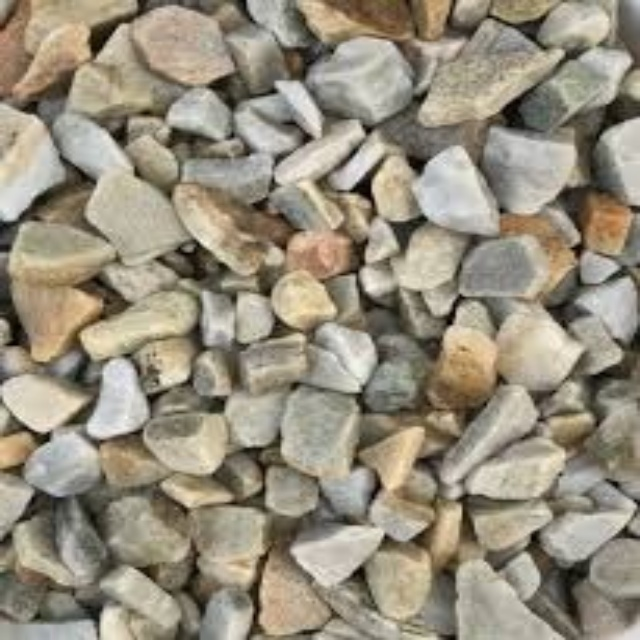obstacle: (0, 0, 637, 637)
